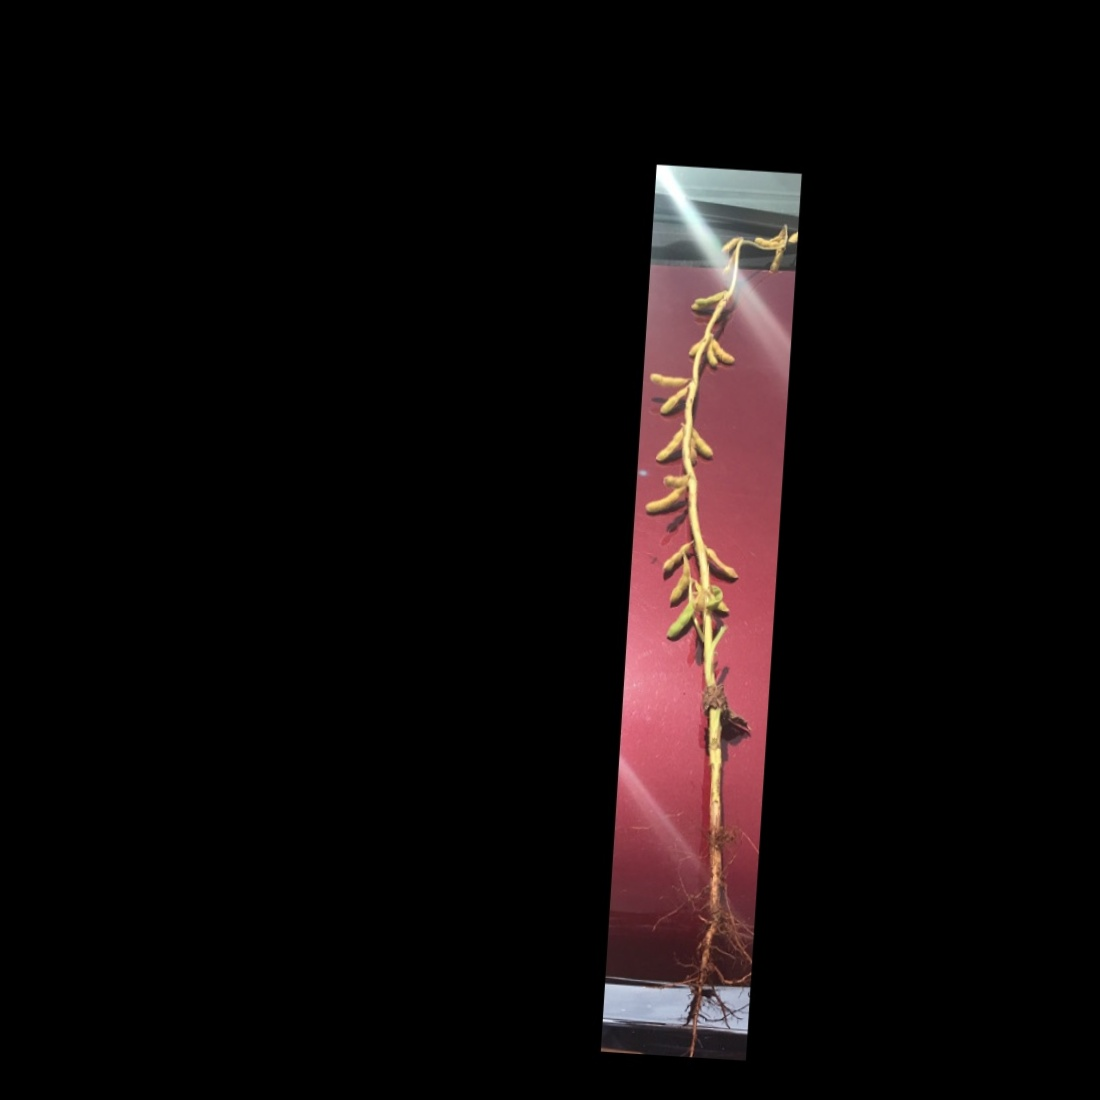pod: (641, 485, 689, 520), (647, 423, 685, 467), (664, 596, 696, 648), (665, 552, 693, 609), (701, 543, 740, 580), (657, 385, 689, 419), (645, 371, 693, 389), (765, 248, 785, 277), (715, 232, 739, 255), (719, 248, 736, 277), (685, 434, 699, 469)
soy: (614, 213, 798, 876)
